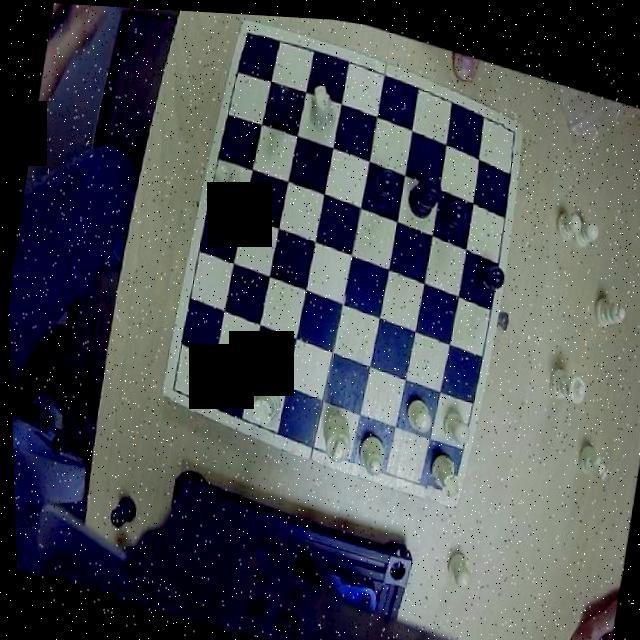chess-table-corners: (160, 373, 197, 412), (419, 470, 456, 507), (234, 18, 268, 54), (493, 112, 522, 146)
